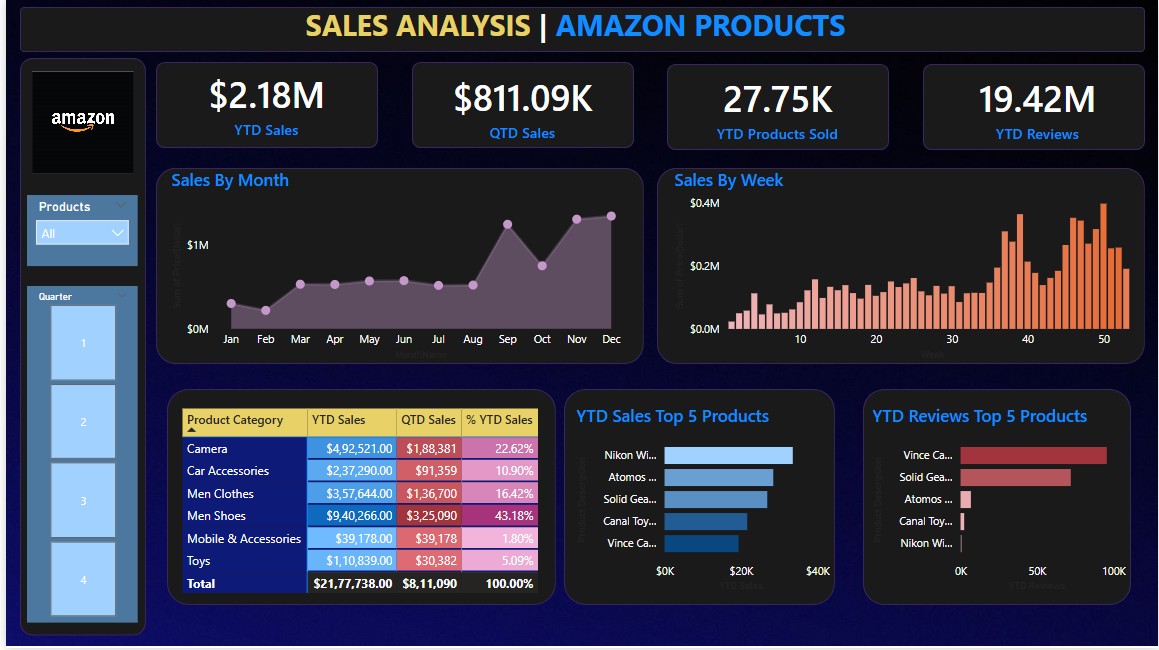

This screenshot's page, from the dashboard's own definition file:
{"tool":"powerbi","page":{"name":"Page 1","canvas":[1280,720],"ordinal":0},"visuals":[{"type":"shape","box":[15.6,7.3,1249.7,50.1],"z":0},{"type":"shape","box":[166.7,68.9,246.7,95.6],"z":0,"group":"g1"},{"type":"shape","box":[166.7,186.7,542.2,217.8],"z":0},{"type":"card","fields":{"Values":["Amazon_Data.ytd sales"]},"box":[170,70,238.9,90],"z":1000,"group":"g1"},{"type":"areaChart","title":"Sales By Month","fields":{"Category":["CalendarTable.MonthName"],"Y":["Sum(Amazon_Data.Price(Dollar))"]},"box":[178.9,186.7,514.4,217.8],"z":1000},{"type":"shape","box":[178.9,432.2,432.2,240],"z":1000},{"type":"textbox","box":[327.6,0,624.9,55.3],"z":2000},{"type":"shape","box":[450.8,68.9,246.7,95.6],"z":2000,"group":"g1"},{"type":"shape","box":[723.3,186.7,542.2,217.8],"z":2000},{"type":"shape","box":[15.6,64.7,139.8,641.6],"z":3000},{"type":"shape","box":[734.8,71.1,246.7,95.6],"z":3000,"group":"g1"},{"type":"columnChart","title":"Sales By Week","fields":{"Category":["CalendarTable.Week"],"Y":["Sum(Amazon_Data.Price(Dollar))"]},"box":[737.8,186.7,527.8,217.8],"z":3000},{"type":"group","id":"g1","title":"Group 1","box":[166.7,68.9,1098.9,97.8],"z":4000},{"type":"shape","box":[1018.9,71.1,246.7,95.6],"z":4000,"group":"g1"},{"type":"card","fields":{"Values":["Amazon_Data.QTD Sales"]},"box":[454.5,73.3,238.9,90],"z":5000,"group":"g1"},{"type":"card","fields":{"Values":["Amazon_Data.YTD Products Sold"]},"box":[737.8,74.5,238.9,90],"z":6000,"group":"g1"},{"type":"pivotTable","fields":{"Rows":["Amazon_Data.Product Category"],"Values":["Amazon_Data.YTD Sales1","Amazon_Data.QTD Sales","Amazon_Data.YTD Sales"]},"box":[191.1,448.9,411.1,223.3],"z":6000},{"type":"card","fields":{"Values":["Amazon_Data.YTD Reviews"]},"box":[1026.7,74.5,238.9,90],"z":7000,"group":"g1"},{"type":"shape","box":[620,432.2,301.1,240],"z":7000},{"type":"shape","box":[952.2,432.2,297.8,240],"z":7001},{"type":"clusteredBarChart","title":"YTD Sales Top 5 Products","fields":{"Category":["Amazon_Data.Product Description"],"Y":["Amazon_Data.YTD Sales"]},"box":[628.9,448.9,292.2,213.3],"z":7002},{"type":"clusteredBarChart","title":"YTD Reviews Top 5 Products","fields":{"Category":["Amazon_Data.Product Description"],"Y":["Amazon_Data.YTD Reviews"]},"box":[957.8,448.9,292.2,213.3],"z":7003},{"type":"slicer","fields":{"Values":["Amazon_Data.Product Category"]},"box":[23.3,216.7,123.3,78.9],"z":7004},{"type":"slicer","fields":{"Values":["CalendarTable.Quarter"]},"box":[23.3,317.8,123.3,374.4],"z":7005},{"type":"image","box":[24.4,74.4,122.2,123.3],"z":7006}]}

Visuals, with their boxes in screenshot pixels (x1, y1, x2, y2), scaled from the page's 1280x720 canvas onto the 1159x650 screenshot:
shape: Rect(14, 7, 1146, 52)
shape: Rect(151, 62, 374, 149)
shape: Rect(151, 169, 642, 365)
card - Amazon_Data.ytd sales: Rect(154, 63, 370, 144)
"Sales By Month" areaChart: Rect(162, 169, 628, 365)
shape: Rect(162, 390, 553, 607)
textbox: Rect(297, 0, 862, 50)
shape: Rect(408, 62, 632, 149)
shape: Rect(655, 169, 1146, 365)
shape: Rect(14, 58, 141, 638)
shape: Rect(665, 64, 889, 150)
"Sales By Week" columnChart: Rect(668, 169, 1146, 365)
"Group 1" group: Rect(151, 62, 1146, 150)
shape: Rect(923, 64, 1146, 150)
card - Amazon_Data.QTD Sales: Rect(412, 66, 628, 147)
card - Amazon_Data.YTD Products Sold: Rect(668, 67, 884, 149)
pivotTable - Amazon_Data.Product Category x Amazon_Data.YTD Sales1: Rect(173, 405, 545, 607)
card - Amazon_Data.YTD Reviews: Rect(930, 67, 1146, 149)
shape: Rect(561, 390, 834, 607)
shape: Rect(862, 390, 1132, 607)
"YTD Sales Top 5 Products" clusteredBarChart: Rect(569, 405, 834, 598)
"YTD Reviews Top 5 Products" clusteredBarChart: Rect(867, 405, 1132, 598)
slicer - Amazon_Data.Product Category: Rect(21, 196, 133, 267)
slicer - CalendarTable.Quarter: Rect(21, 287, 133, 625)
image: Rect(22, 67, 133, 178)
